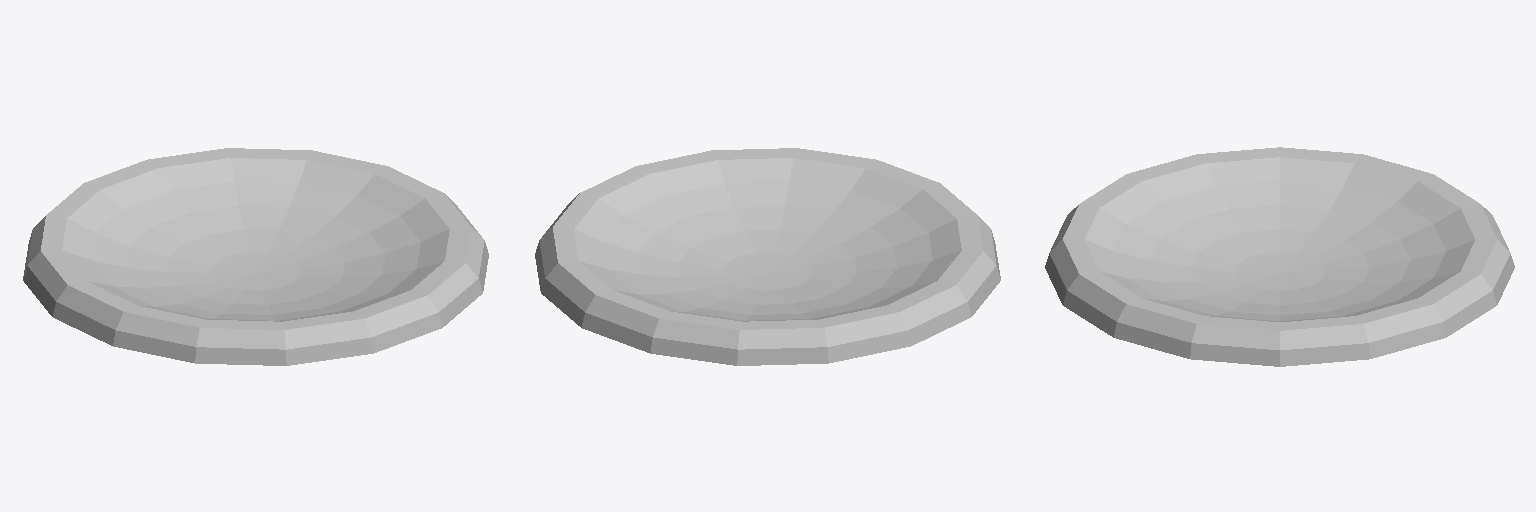
The model's file is bubbledepressed.obj.
3 renders of one model, left to right at view 1: azimuth 30°, elevation 25°; view 2: azimuth 150°, elevation 25°; view 3: azimuth 270°, elevation 25°, orthographic.
Visible parts, largest first — view 1: Sphere; view 2: Sphere; view 3: Sphere.
Part boxes in pixels (left/top/right/bottom): Sphere: left=23, top=148, right=488, bottom=365; Sphere: left=535, top=148, right=1000, bottom=365; Sphere: left=1045, top=147, right=1514, bottom=366.
Bounding box in the file's own units: 2 × 0.159 × 2.